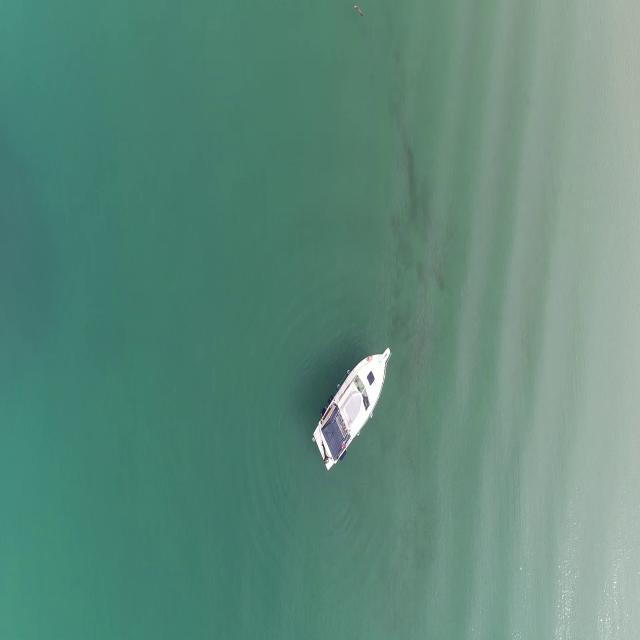boat: (315, 342, 392, 474)
wood: (353, 4, 365, 18)
